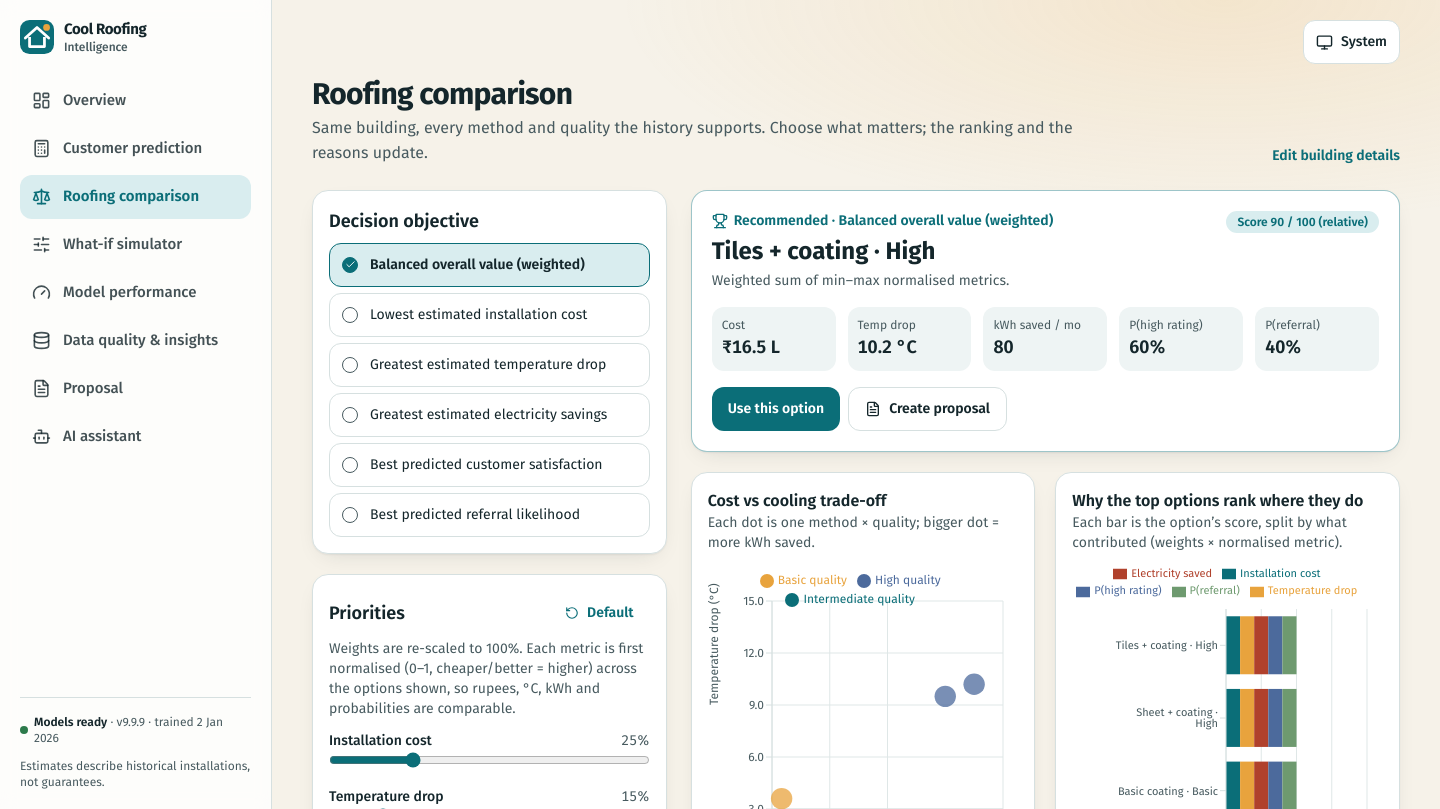
Test: roofing comparison › re-requests with the chosen objective and hides weights for single-metric objectives
This screenshot has width=1440, height=809.
expect the heading "Tiles + coating · High" is shown: met, box [712, 237, 935, 265]
expect the heading "Priorities" is shown: met, box [329, 599, 405, 627]
Click the radio button labelled "Lowest estimated installation cost" at point(489, 315), box [329, 293, 650, 337]
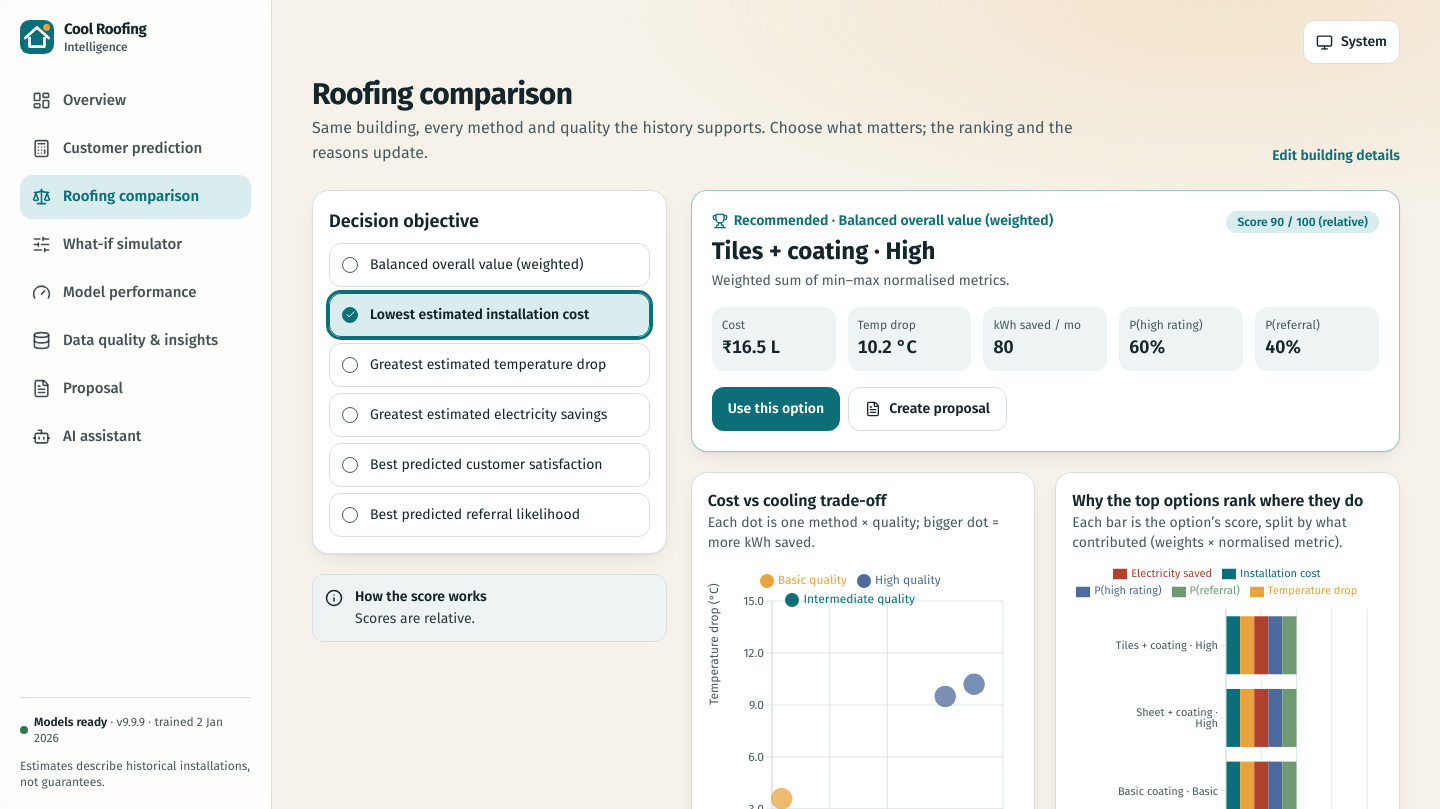
expect the heading "Priorities" is gone: met
